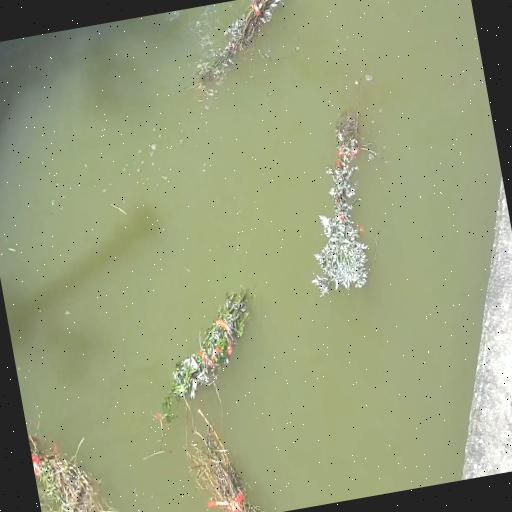twig: (277, 76, 399, 300), (142, 284, 268, 414), (171, 366, 265, 512), (27, 416, 133, 512), (183, 0, 297, 83)
